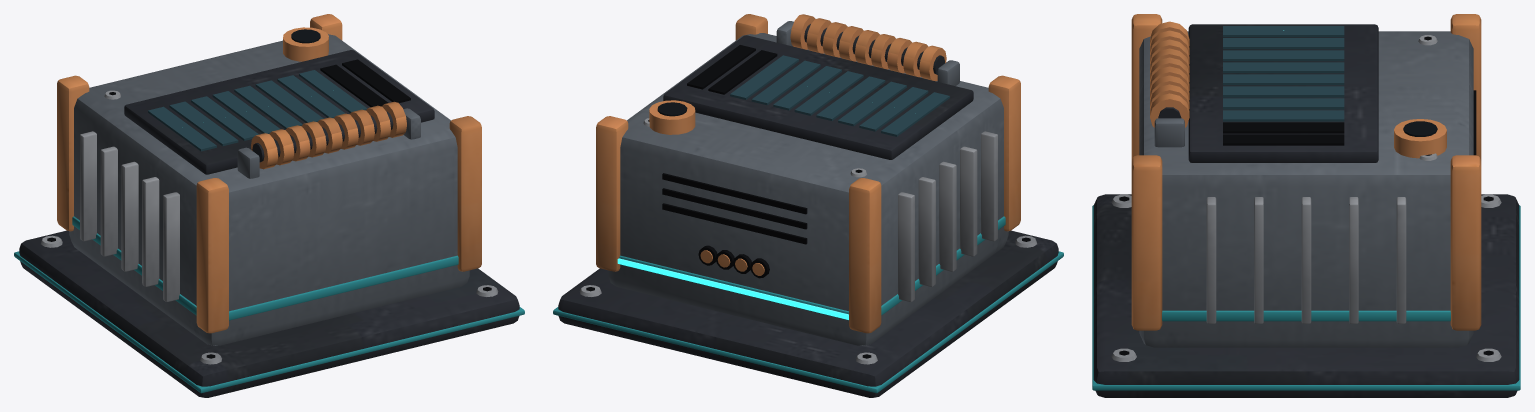
Rendered from controller_4.glb.
The picture shows the model from 3 angles, left to right: view 1: azimuth 30°, elevation 25°; view 2: azimuth 150°, elevation 25°; view 3: azimuth 270°, elevation 25°; orthographic projection. The views are drawn at different scales.
Parts seen in each view (by area): view 1: Body; view 2: Body, RunningLight; view 3: Body.
Boxes of the visible parts, x1,y1,x2,y2 form: Body: [14, 14, 524, 397]; Body: [553, 14, 1063, 397]; RunningLight: [617, 258, 848, 319]; Body: [1092, 14, 1520, 397].
Size of the model in its own units: 0.2256 by 0.1465 by 0.2256.
10 materials, 4 textured.
